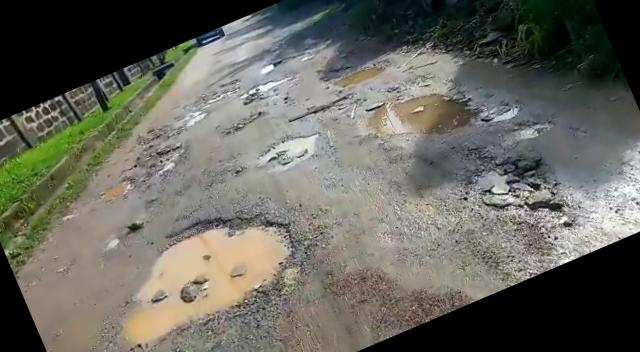pothole: (90, 183, 321, 352), (349, 59, 488, 167), (112, 136, 192, 192), (256, 127, 322, 175), (296, 86, 368, 129), (331, 53, 399, 96), (216, 105, 274, 140), (504, 111, 554, 148), (240, 68, 296, 101), (95, 176, 137, 208)
